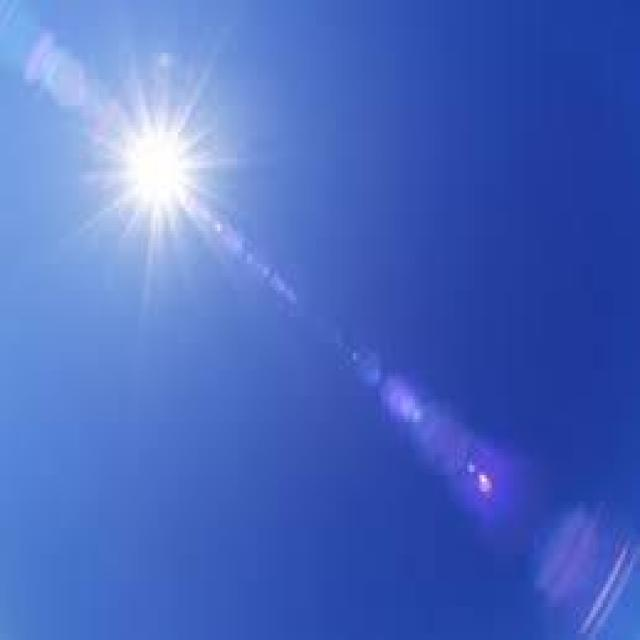other: (68, 41, 230, 297)
